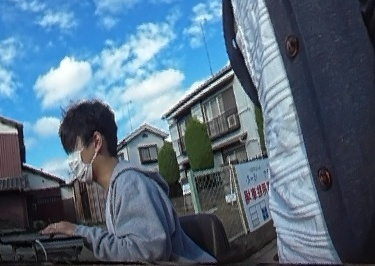person: (58, 99, 180, 266)
